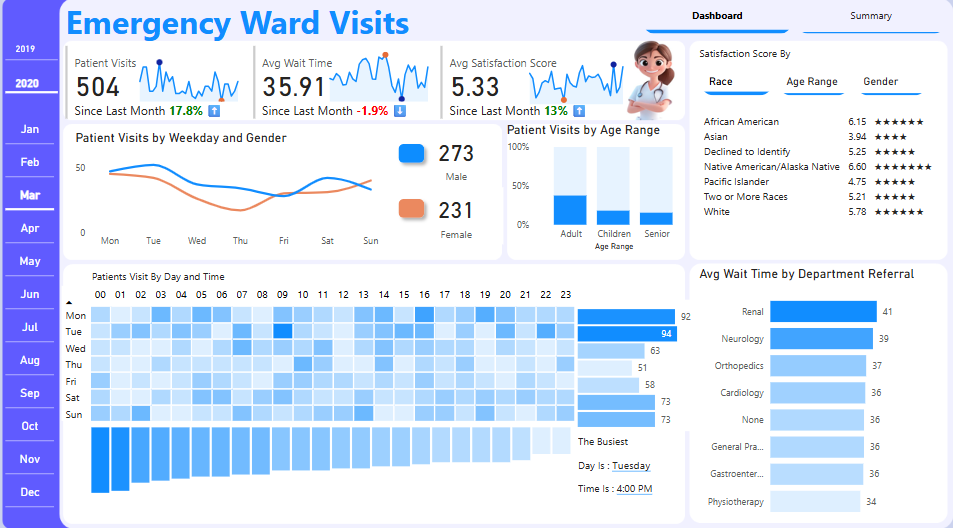

What the dashboard file says about the page in this screenshot:
{"tool":"powerbi","page":{"name":"Dashboard","canvas":[1280,720],"ordinal":0},"visuals":[{"type":"advancedSlicerVisual","fields":{"Values":["Calendar.Year"]},"box":[5.7,45.7,80,90],"z":0},{"type":"advancedSlicerVisual","fields":{"Values":["Calendar.Month"]},"box":[5.7,150,75.7,540],"z":1000},{"type":"cardVisual","fields":{"Data":["All Measures.Patient Visits","All Measures.Avg Wait Time","All Measures.Avg Satisfaction Score"]},"box":[85.7,61.4,758.6,107.1],"z":2000},{"type":"lineChart","fields":{"Y":["All Measures.Patient Visits","All Measures.Max Patient Visit","All Measures.Min Patient Visit"],"Category":["Calendar.Day"]},"box":[170,61.4,204.3,84.3],"z":3000},{"type":"lineChart","fields":{"Category":["Calendar.Day"],"Y":["All Measures.Avg Wait Time","All Measures.Min Wait TIme Score","All Measures.Max Wait Time Score"]},"box":[422.9,61.4,204.3,84.3],"z":4000},{"type":"lineChart","fields":{"Category":["Calendar.Day"],"Y":["All Measures.Avg Satisfaction Score","All Measures.Max Satisfaction Score","All Measures.Min Satisfaction Score"]},"box":[690,72.9,195.7,77.1],"z":5000},{"type":"lineChart","fields":{"Y":["All Measures.Patient Visits"],"Category":["Calendar.Weekday"],"Series":["Hospital ER.Gender"]},"box":[98.6,178.6,427.1,167.1],"z":6000},{"type":"card","fields":{"Values":["All Measures.Patient Visits"]},"box":[548.6,178.6,125.7,75.7],"z":7000},{"type":"card","fields":{"Values":["All Measures.Patient Visits"]},"box":[548.6,254.3,125.7,75.7],"z":8000},{"type":"shape","box":[525.4,188.5,52.3,43.1],"z":9000},{"type":"shape","box":[525.4,262.3,52.3,43.1],"z":10000},{"type":"hundredPercentStackedColumnChart","title":"Patient Visits by Age Range","fields":{"Category":["Hospital ER.Age Range"],"Y":["All Measures.Patient Visits","All Measures.Dummy Value"]},"box":[673.3,168.3,256.7,176.7],"z":11000},{"type":"tableEx","fields":{"Values":["Hospital ER.Race","All Measures.Avg Satisfaction Score","All Measures.Stars Rep"]},"box":[930,128.3,350,255],"z":12000},{"type":"advancedSlicerVisual","fields":{"Values":["Sat_Param.Sat_Param"]},"box":[930,86.7,316.7,51.7],"z":13000},{"type":"clusteredBarChart","fields":{"Category":["Hospital ER.Department Referral"],"Y":["All Measures.Avg Wait Time"]},"box":[930,360,350,348.3],"z":14000},{"type":"pivotTable","fields":{"Rows":["Calendar.Weekday"],"Columns":["Hospital ER.Hour Only"],"Values":["All Measures.Patient Visits"]},"box":[80,381.7,708.3,198.3],"z":15000},{"type":"clusteredBarChart","fields":{"Category":["Calendar.Weekday"],"Y":["All Measures.Patient Visits"]},"box":[768.3,405,161.7,175],"z":16000},{"type":"clusteredColumnChart","fields":{"Category":["Hospital ER.Hour Only"],"Y":["All Measures.Patient Visits"]},"box":[120,561.7,648.3,128.3],"z":17000},{"type":"textbox","box":[768.3,580,93.3,35],"z":18000},{"type":"textbox","box":[768.3,610,131.7,31.7],"z":19000},{"type":"textbox","box":[768.3,641.7,128.3,35],"z":20000},{"type":"textbox","box":[120,360,211.7,33.3],"z":20001},{"type":"pageNavigator","box":[861.7,0,400,50],"z":20002},{"type":"textbox","box":[85,0,651.7,73.3],"z":20003},{"type":"textbox","box":[930,61.7,211.7,33.3],"z":20004}]}

Visuals, with their boxes in screenshot pixels (x1, y1, x2, y2), scaled from the page's 1280x720 canvas onto the 953x528 screenshot:
advancedSlicerVisual - Calendar.Year: region(4, 34, 64, 100)
advancedSlicerVisual - Calendar.Month: region(4, 110, 61, 506)
cardVisual - All Measures.Patient Visits x All Measures.Avg Wait Time: region(64, 45, 629, 124)
lineChart - All Measures.Patient Visits x All Measures.Max Patient Visit: region(127, 45, 279, 107)
lineChart - Calendar.Day x All Measures.Avg Wait Time: region(315, 45, 467, 107)
lineChart - Calendar.Day x All Measures.Avg Satisfaction Score: region(514, 53, 659, 110)
lineChart - All Measures.Patient Visits x Calendar.Weekday: region(73, 131, 391, 254)
card - All Measures.Patient Visits: region(408, 131, 502, 186)
card - All Measures.Patient Visits: region(408, 186, 502, 242)
shape: region(391, 138, 430, 170)
shape: region(391, 192, 430, 224)
"Patient Visits by Age Range" hundredPercentStackedColumnChart: region(501, 123, 692, 253)
tableEx - Hospital ER.Race x All Measures.Avg Satisfaction Score: region(692, 94, 952, 281)
advancedSlicerVisual - Sat_Param.Sat_Param: region(692, 64, 928, 101)
clusteredBarChart - Hospital ER.Department Referral x All Measures.Avg Wait Time: region(692, 264, 952, 519)
pivotTable - Calendar.Weekday x Hospital ER.Hour Only: region(60, 280, 587, 425)
clusteredBarChart - Calendar.Weekday x All Measures.Patient Visits: region(572, 297, 692, 425)
clusteredColumnChart - Hospital ER.Hour Only x All Measures.Patient Visits: region(89, 412, 572, 506)
textbox: region(572, 425, 641, 451)
textbox: region(572, 447, 670, 471)
textbox: region(572, 471, 668, 496)
textbox: region(89, 264, 247, 288)
pageNavigator: region(642, 0, 939, 37)
textbox: region(63, 0, 548, 54)
textbox: region(692, 45, 850, 70)
